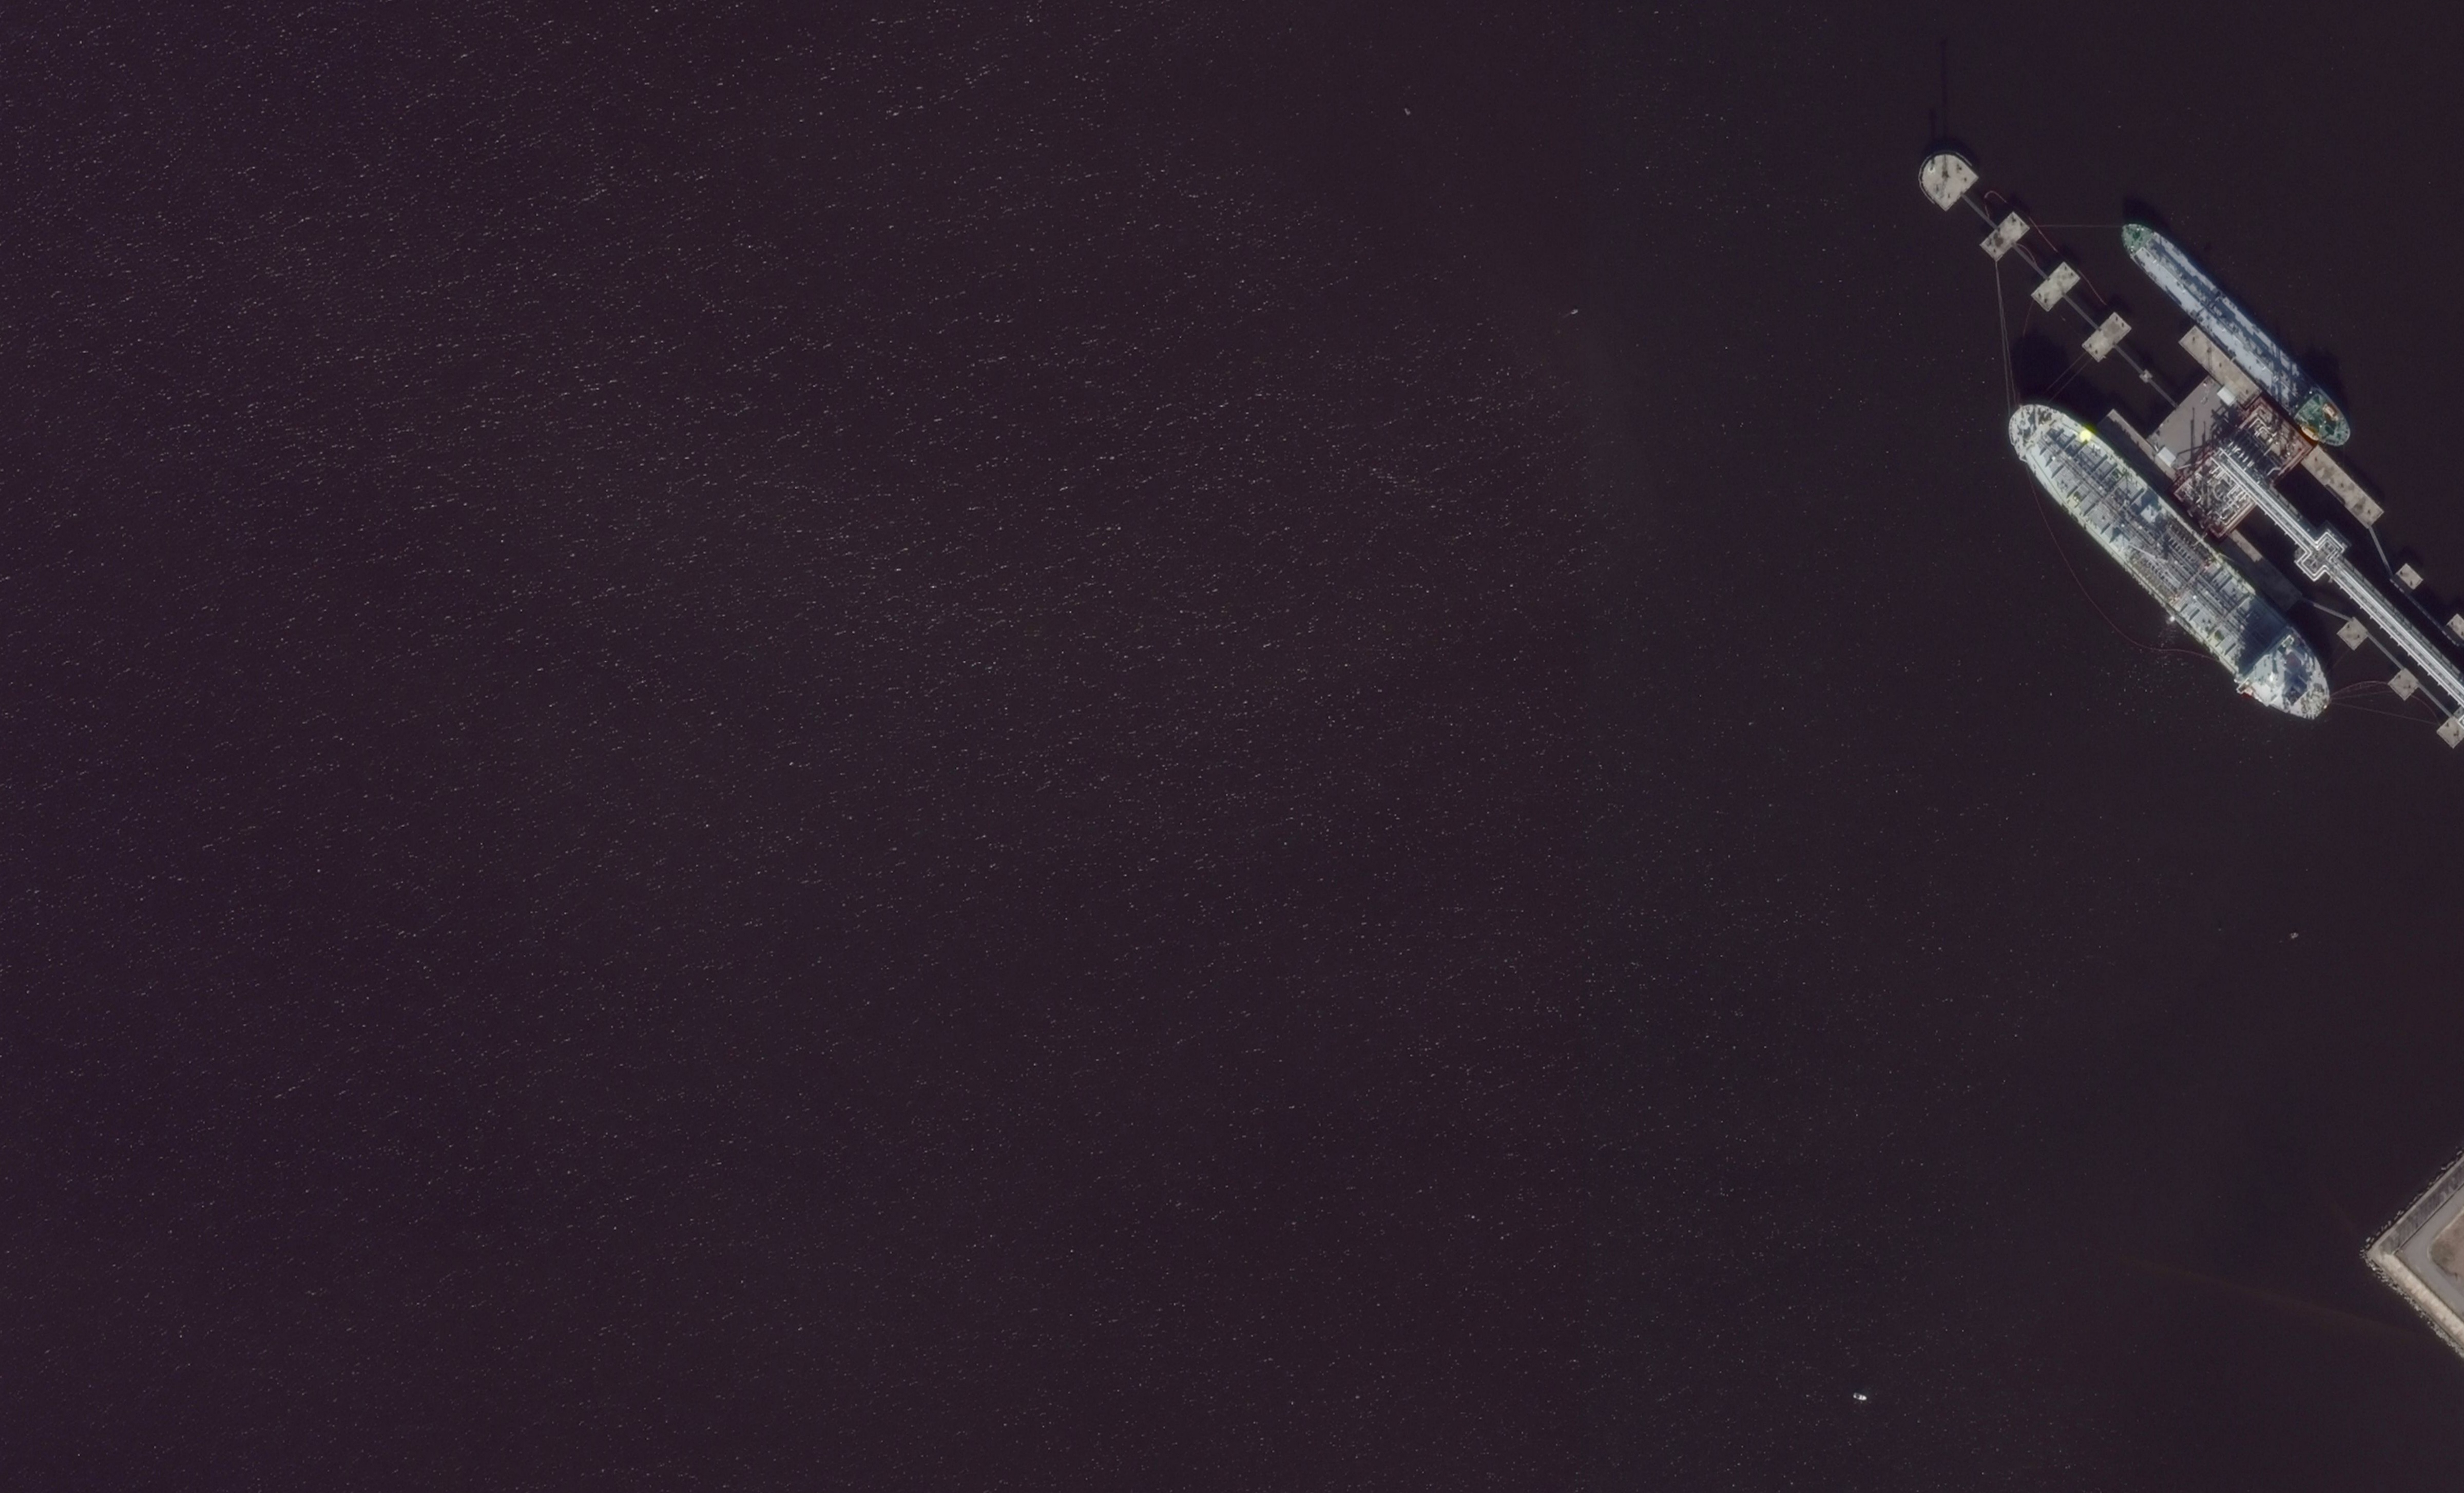boat: (2005, 401, 2334, 724), (2117, 222, 2353, 447), (1852, 1393, 1867, 1401)
